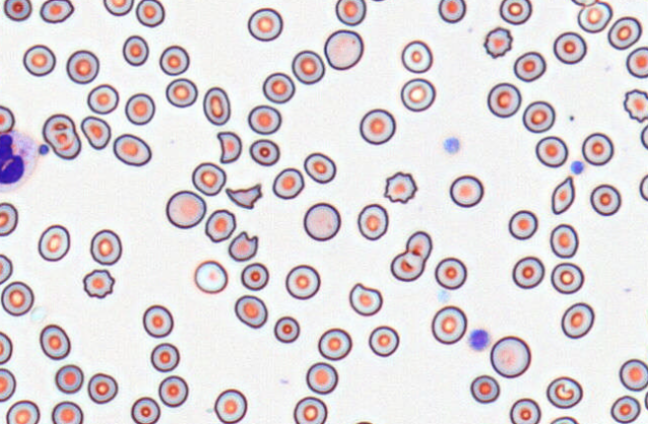GRAN: (0, 125, 39, 192)
PLT: (467, 327, 491, 352), (441, 135, 462, 155), (569, 158, 586, 175), (38, 143, 51, 159)
RBC: (41, 113, 81, 159), (489, 335, 531, 378), (323, 29, 363, 70), (165, 189, 206, 228), (303, 202, 340, 241), (431, 305, 467, 344), (359, 108, 396, 145), (112, 133, 151, 166), (486, 82, 521, 118), (560, 302, 594, 339), (191, 161, 226, 196), (193, 259, 228, 294), (285, 264, 320, 299), (400, 77, 435, 112), (0, 280, 34, 316), (213, 388, 247, 424), (247, 7, 283, 41), (546, 376, 583, 409), (89, 228, 122, 265), (37, 224, 70, 261), (607, 16, 642, 50), (291, 49, 325, 84), (348, 282, 382, 316), (577, 0, 612, 33), (317, 327, 352, 360), (66, 49, 99, 84), (357, 203, 388, 240), (234, 294, 267, 328), (550, 261, 584, 294), (449, 174, 483, 207), (39, 324, 70, 360), (202, 86, 230, 125), (305, 361, 338, 394), (303, 151, 336, 184), (522, 100, 555, 133), (434, 256, 467, 289), (553, 31, 586, 64), (204, 208, 236, 242), (512, 255, 544, 289), (581, 132, 613, 166), (383, 171, 416, 203), (535, 135, 568, 167), (262, 71, 295, 103), (22, 44, 55, 76), (589, 183, 621, 216), (390, 250, 424, 281), (142, 304, 173, 338), (401, 39, 432, 73), (272, 167, 304, 199), (124, 92, 155, 125), (86, 83, 119, 114), (513, 51, 546, 82), (247, 104, 281, 134), (549, 223, 578, 258), (87, 372, 118, 404), (368, 325, 399, 357), (82, 268, 115, 298), (618, 358, 648, 391), (158, 375, 188, 407), (165, 77, 197, 107), (293, 396, 327, 424), (159, 44, 189, 75), (483, 26, 512, 58), (469, 374, 500, 403), (508, 209, 537, 240), (5, 399, 40, 424), (610, 395, 640, 424), (150, 342, 179, 372), (54, 364, 83, 394), (509, 397, 541, 424), (623, 88, 648, 122), (249, 138, 279, 166), (130, 396, 160, 424), (122, 34, 148, 66), (499, 0, 532, 25), (240, 262, 269, 290), (405, 230, 432, 260), (135, 0, 165, 27), (39, 0, 74, 23), (335, 0, 366, 25), (51, 400, 83, 424), (273, 315, 300, 343), (626, 46, 647, 78), (437, 0, 466, 23), (0, 201, 18, 236), (3, 0, 32, 21), (0, 367, 16, 402), (102, 0, 134, 16), (0, 104, 15, 133), (0, 253, 13, 284), (0, 331, 12, 364), (547, 415, 579, 424), (639, 173, 648, 201), (640, 123, 648, 150), (570, 0, 598, 6), (348, 420, 378, 424), (644, 388, 648, 411), (368, 0, 392, 2)
Schistocyte: (80, 113, 111, 151), (225, 181, 264, 211), (228, 231, 260, 262), (552, 174, 576, 214), (216, 130, 243, 164)
